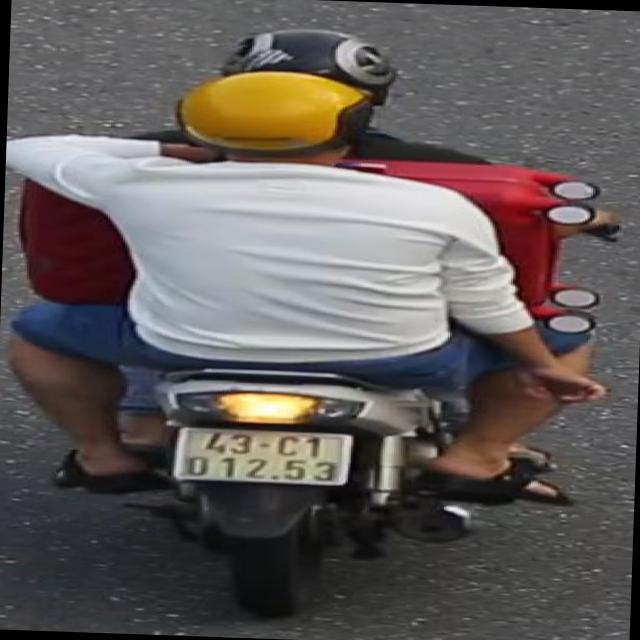LP: (167, 424, 361, 494)
helmet: (162, 68, 383, 182), (246, 23, 407, 96)
